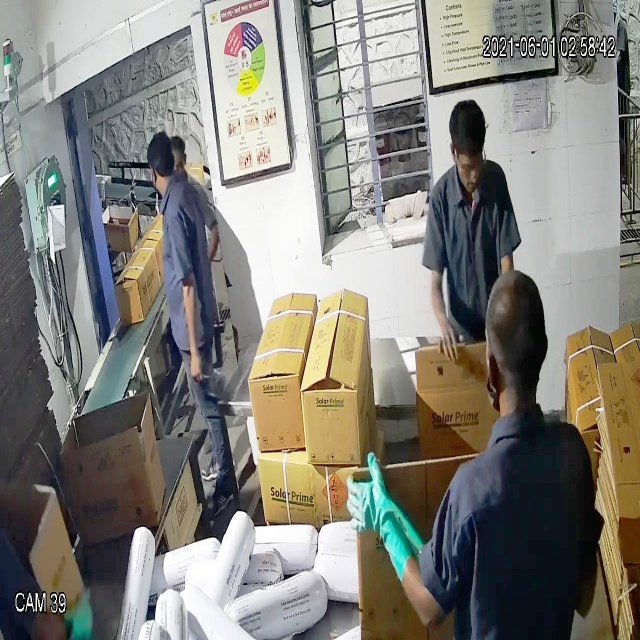Sin_gafas: (447, 144, 492, 185)
